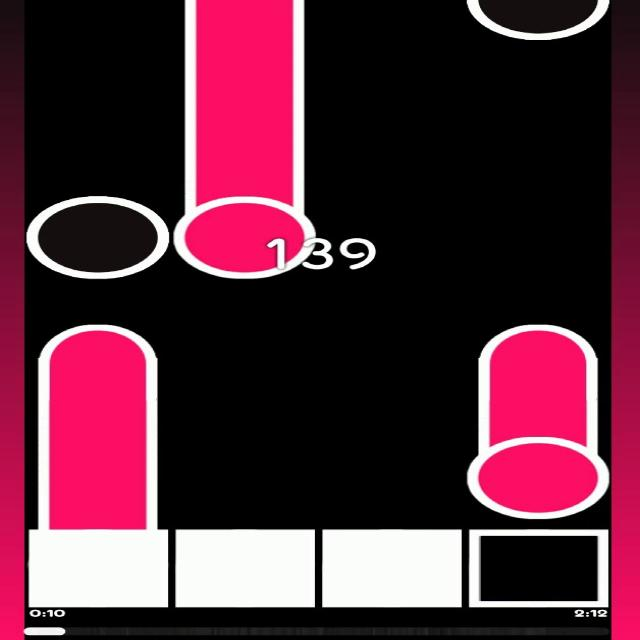end_hold: (35, 314, 160, 365), (472, 317, 604, 365)
note: (28, 196, 169, 278), (465, 0, 611, 41)
start_hold: (173, 178, 313, 280), (466, 421, 608, 519)
